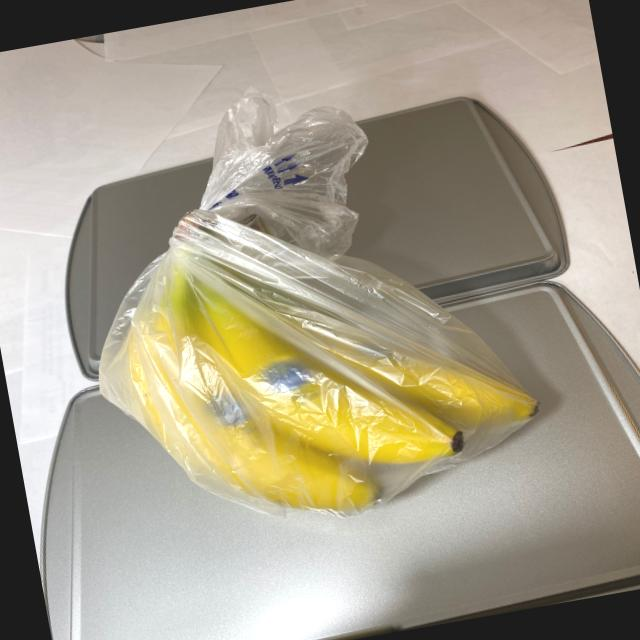banana: (82, 150, 560, 559)
